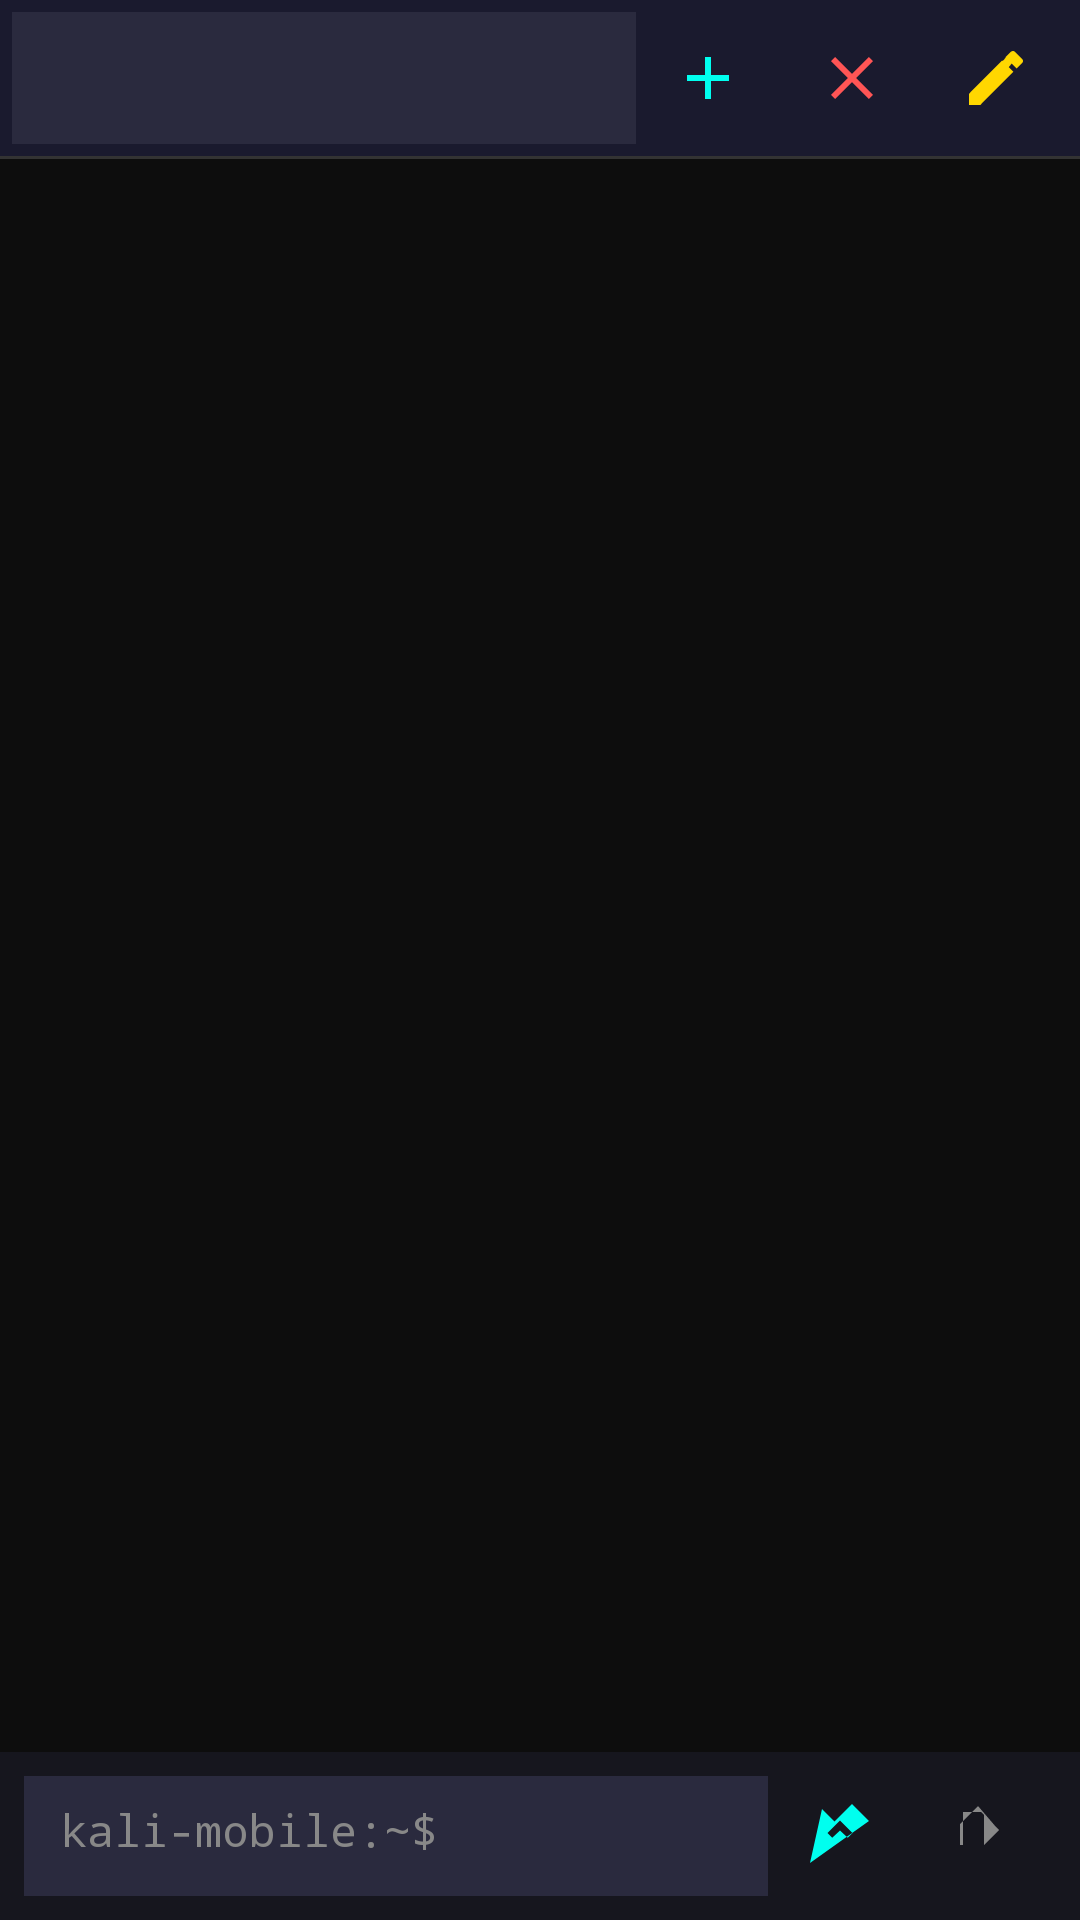

Icon bounding boxes for this 1080x1920 phone screenshot, format region(x1, y1, x2, y2):
Close Session: region(831, 57, 873, 99)
New Session: region(687, 57, 729, 99)
Rename Session: region(969, 51, 1023, 105)
Send: region(810, 1804, 869, 1863)
